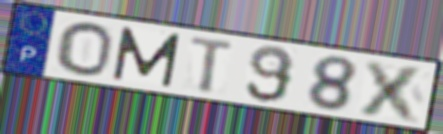8: (306, 54, 360, 113)
9: (244, 44, 295, 106)
M: (110, 24, 184, 89)
O: (54, 20, 115, 78)
T: (188, 34, 238, 94)
X: (355, 57, 430, 126)
